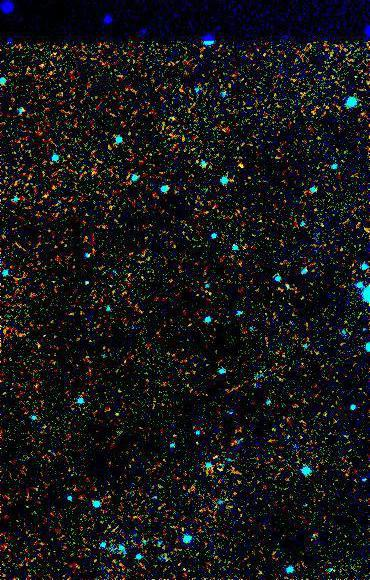star: (224, 152, 254, 182)
